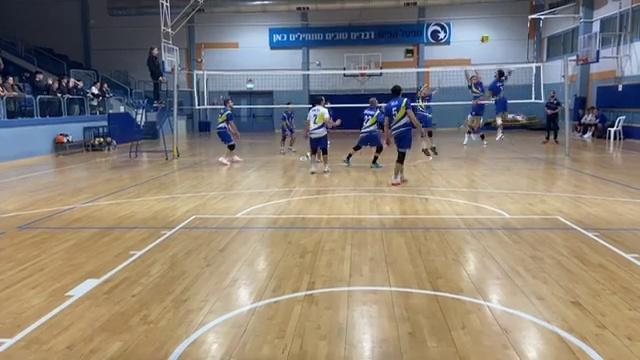ball: (479, 34, 491, 46)
